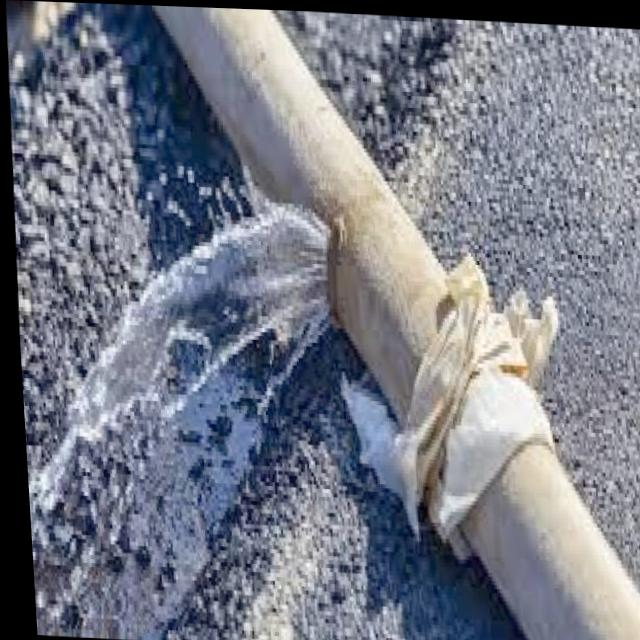leak: (31, 167, 338, 604)
